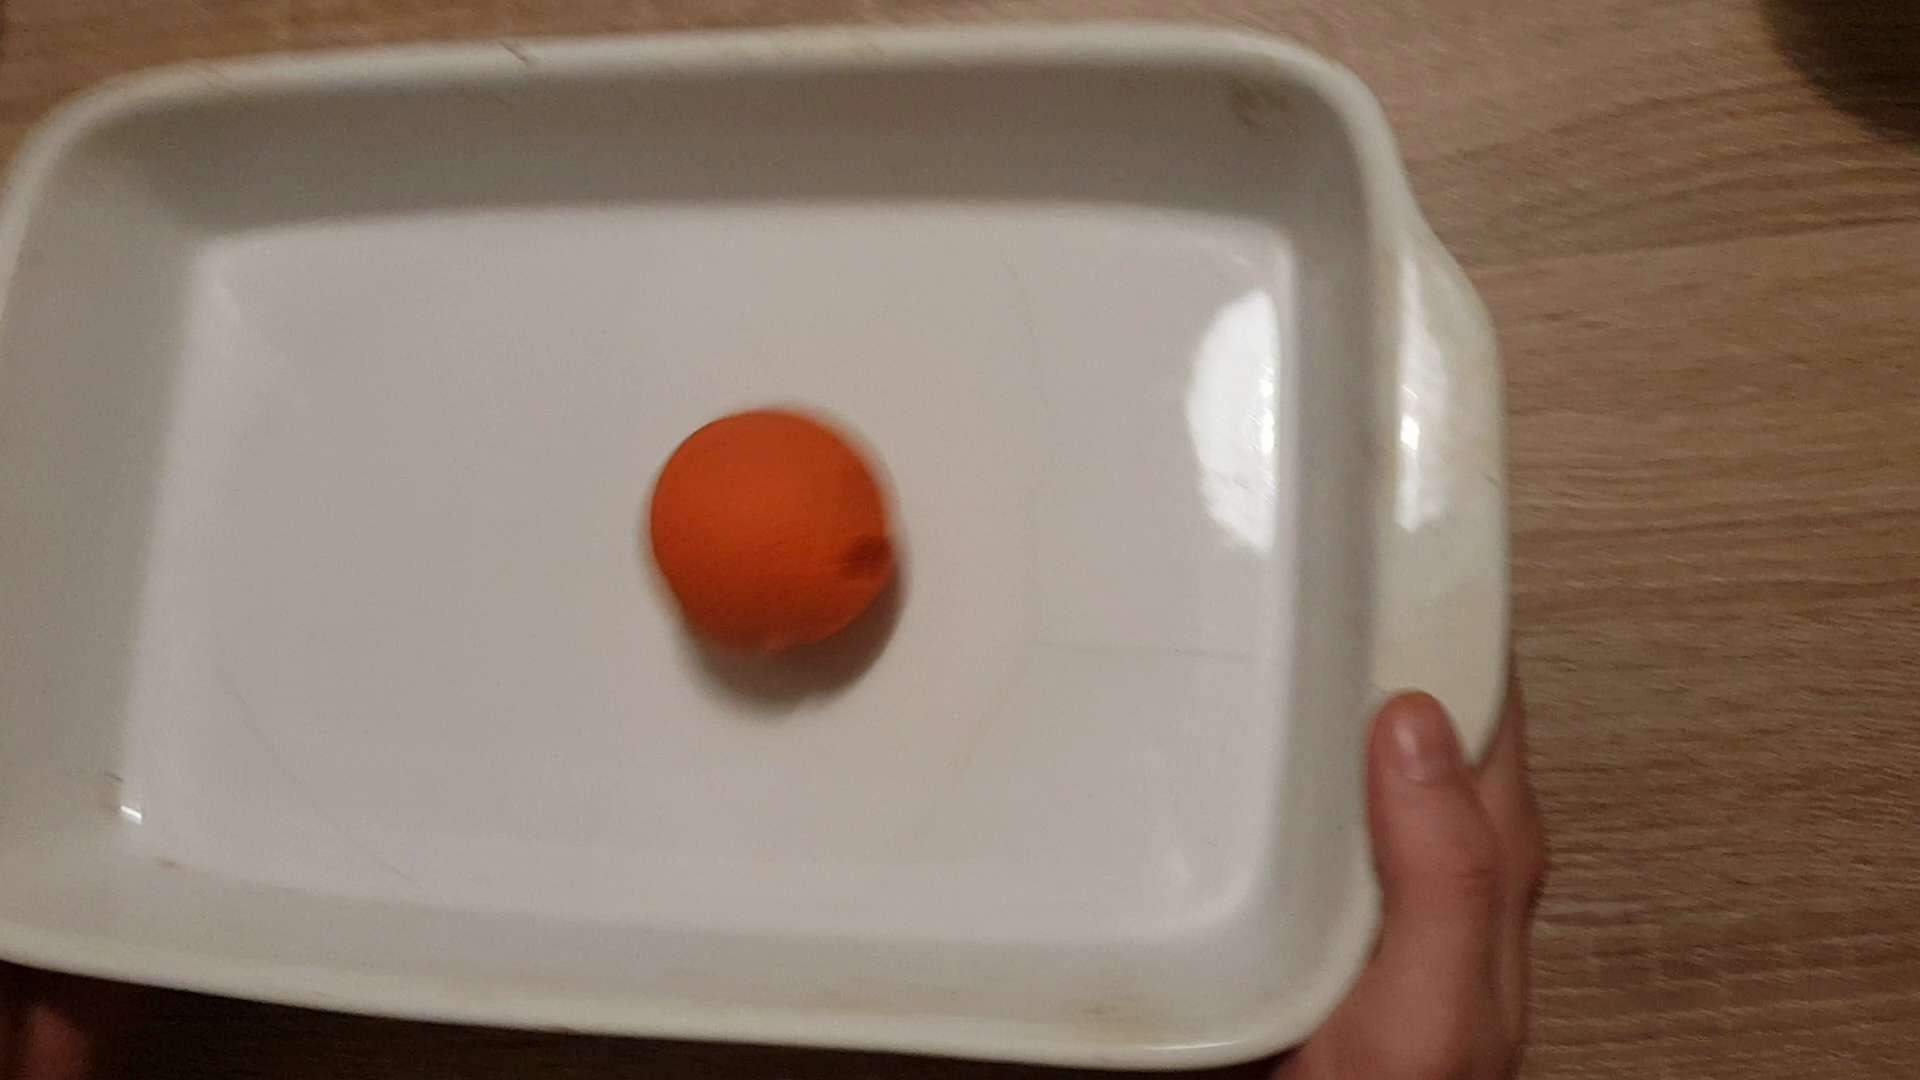sphere: (640, 407, 909, 679)
